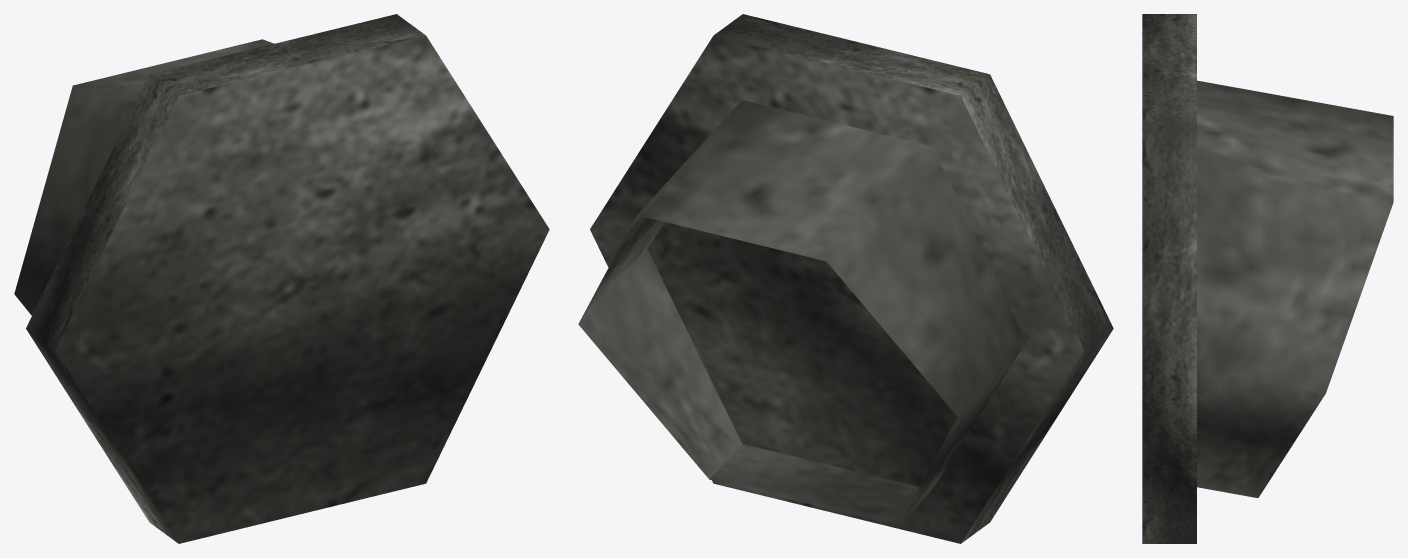
The model's file is large_metal_2_elbow_22-5.fbx.
The picture shows the model from 3 angles, left to right: view 1: azimuth 30°, elevation 25°; view 2: azimuth 150°, elevation 25°; view 3: azimuth 270°, elevation 25°; orthographic projection. The views are drawn at different scales.
Parts seen in each view (by area): view 1: polySurface671; view 2: polySurface671; view 3: polySurface671.
Part boxes in pixels (bbox=[...]): polySurface671: bbox=[14, 14, 549, 543]; polySurface671: bbox=[578, 14, 1113, 543]; polySurface671: bbox=[1142, 14, 1393, 543].
Size of the model in its own units: 1.3 by 1.13 by 0.6155.
